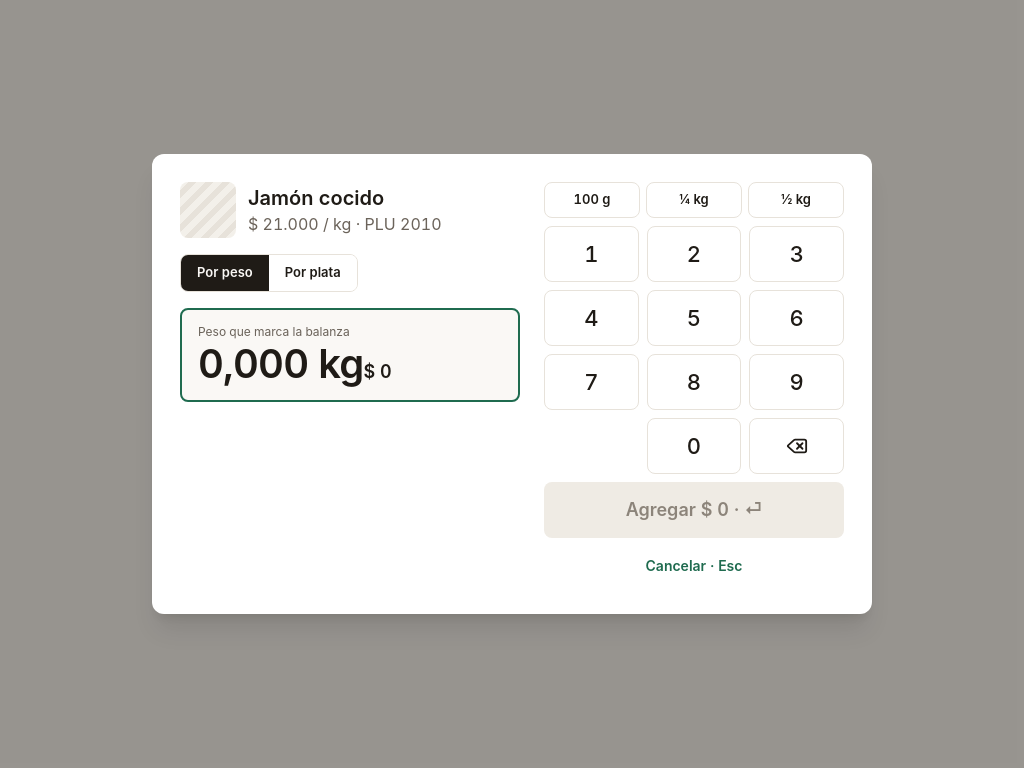
Test: teclado de peso › atajos de 100 g, ¼ kg y ½ kg
Click the button "¼ kg" at (694, 200), box [646,182,742,218]
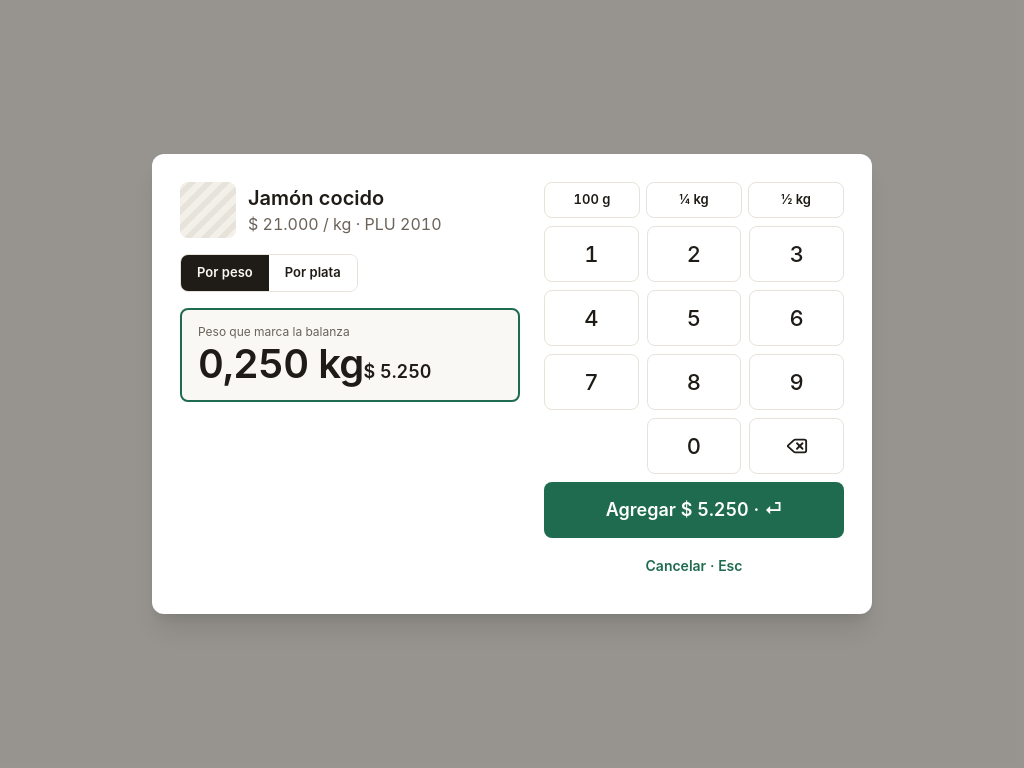
Expected: the text named "Peso" reads "0,250 kg", [198,339,364,388]
Expected: the button "Agregar $ 5.250 · ⏎" is shown, [544,482,844,538]
